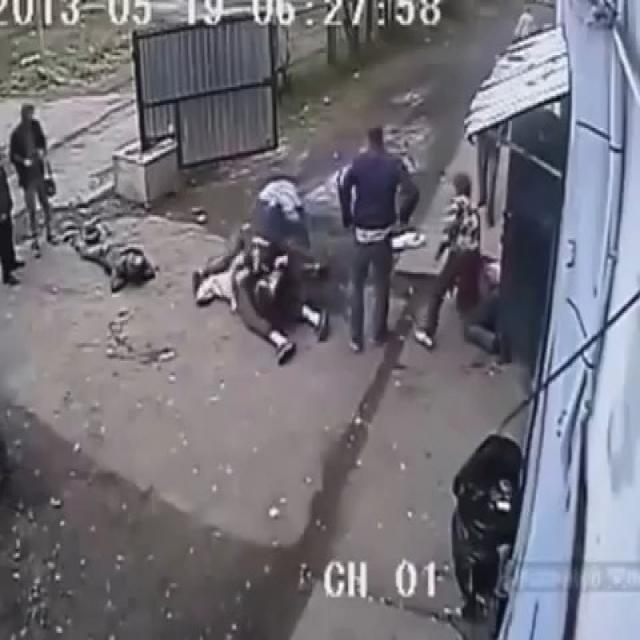fight: (192, 175, 334, 365)
